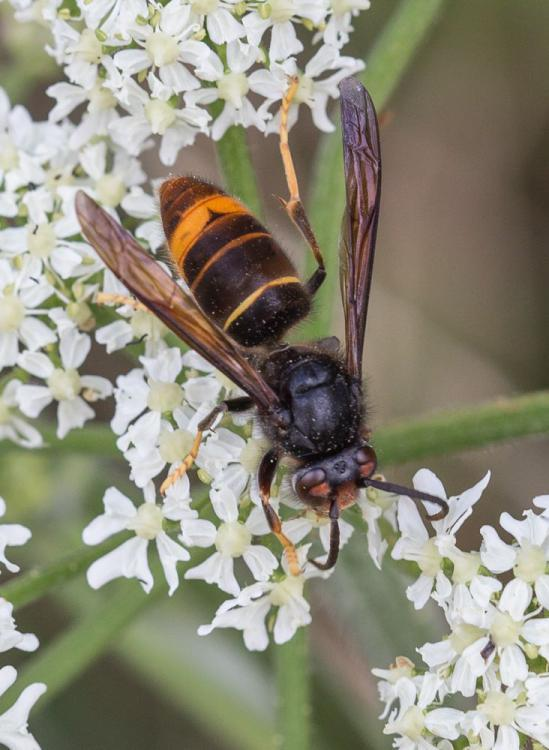hornet: (90, 155, 427, 509)
